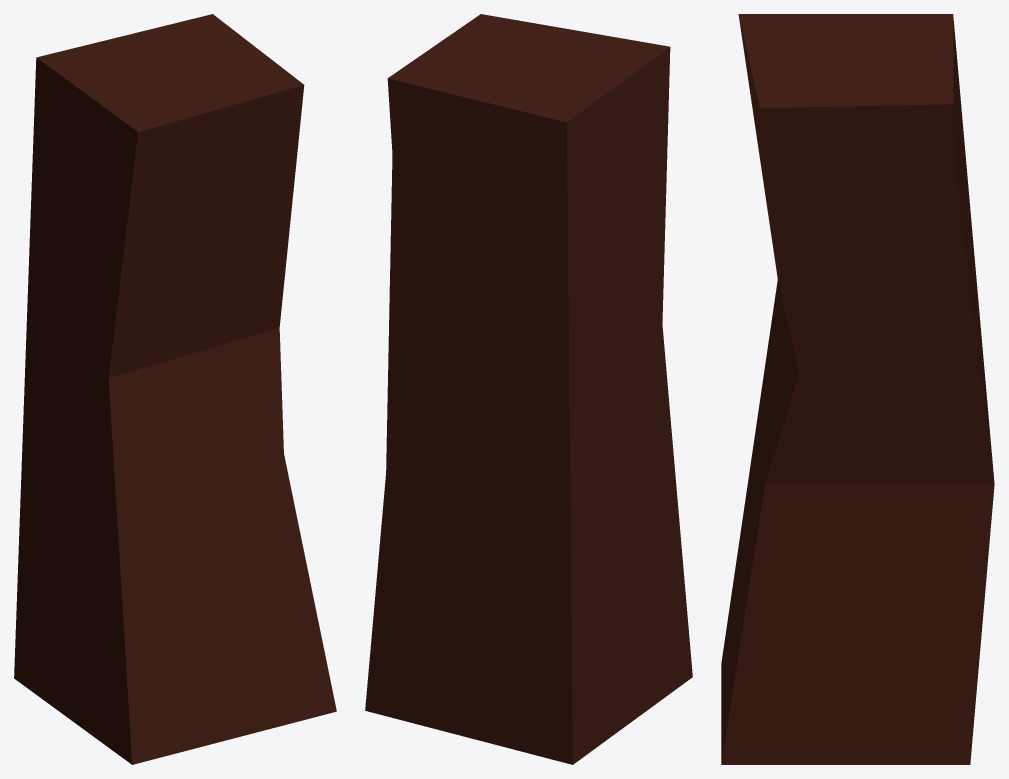
The model's file is treelog_3a.fbx.
3 renders of one model, left to right at view 1: azimuth 30°, elevation 25°; view 2: azimuth 150°, elevation 25°; view 3: azimuth 270°, elevation 25°, orthographic. The views are drawn at different scales.
Parts seen in each view (by area): view 1: treelog_3a; view 2: treelog_3a; view 3: treelog_3a.
Boxes of the visible parts, bbox=[...] form: treelog_3a: bbox=[14, 14, 336, 764]; treelog_3a: bbox=[365, 14, 692, 764]; treelog_3a: bbox=[721, 14, 994, 764].
Bounding box in the file's own units: 49.99 × 146 × 54.88.
